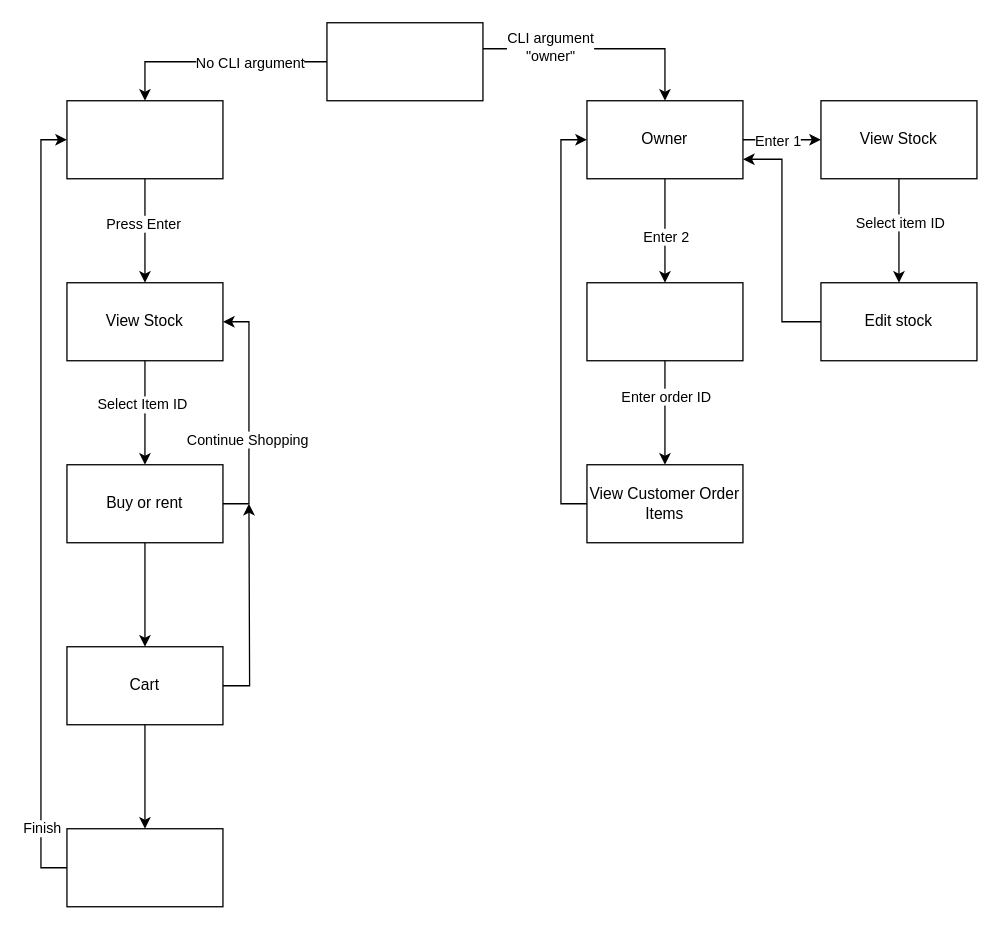
Image size: 1000x929. Some labels were removed from this diagram. Each missing label, with the centre of its shape:
"Checkout" belongs at point (144, 867).
"Main" belongs at point (404, 61).
"View Customer Orders" belongs at point (664, 321).
"Welcome" belongs at point (144, 139).
